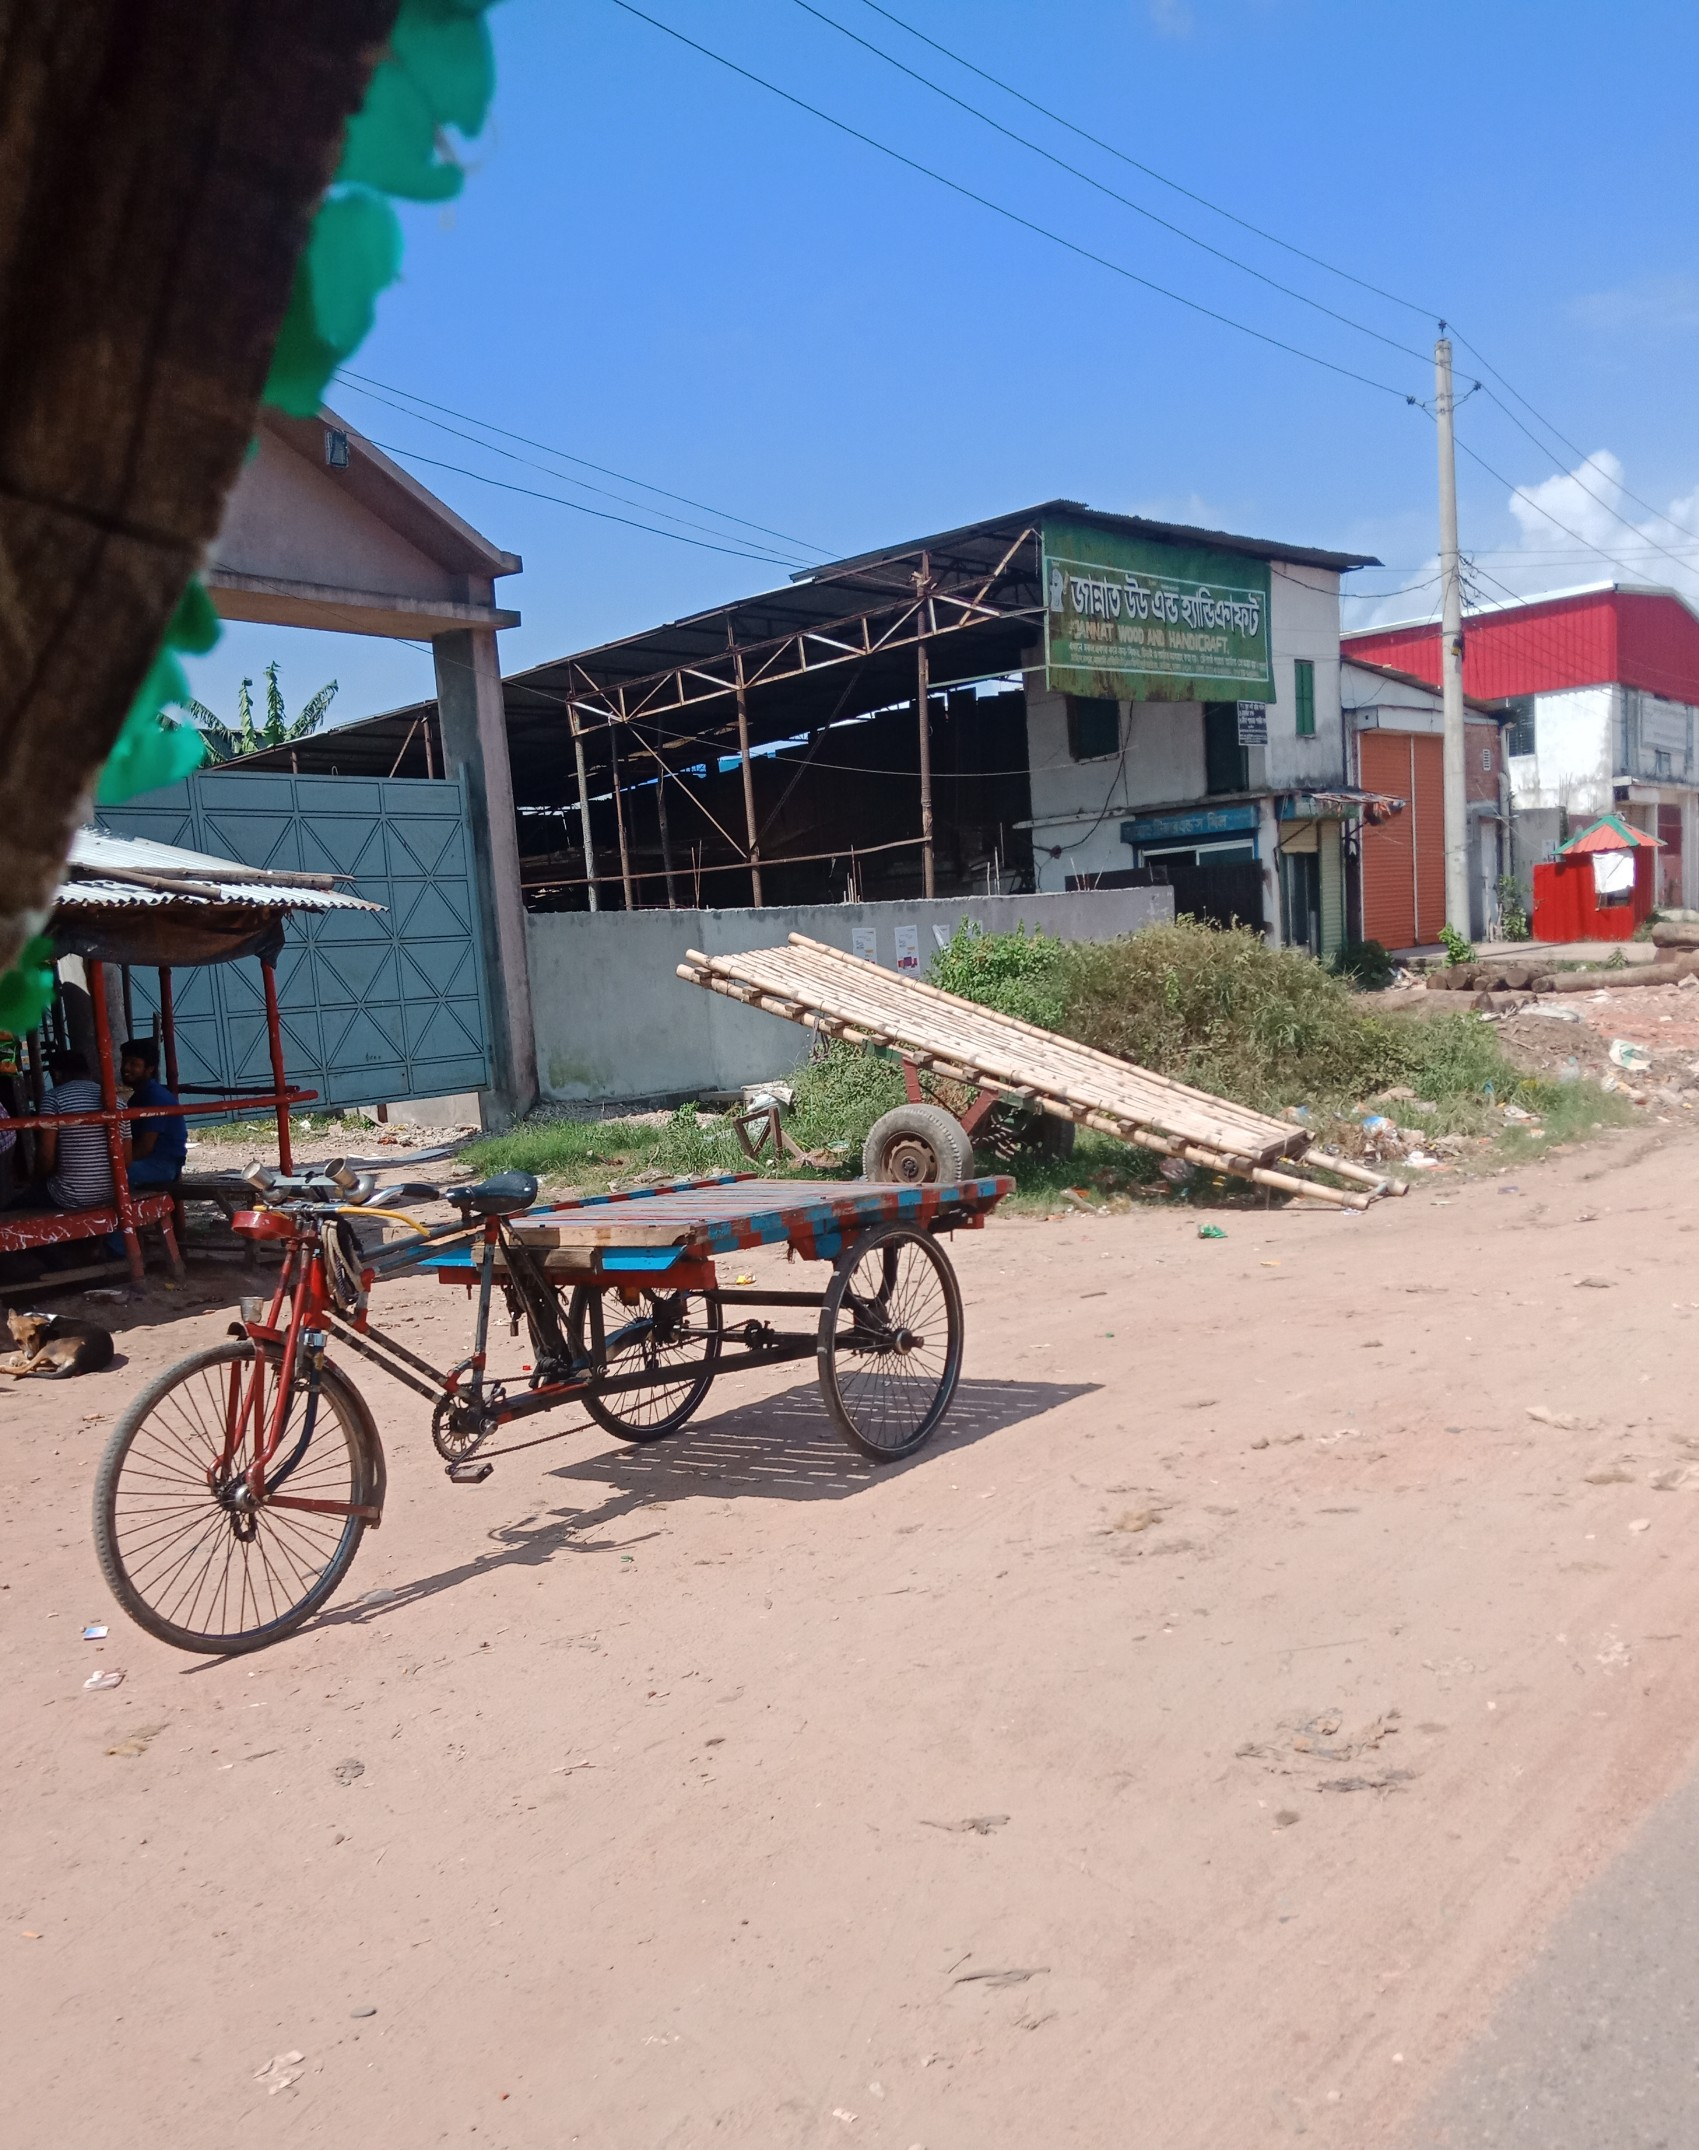van: (96, 1157, 1013, 1651)
wheelbarrow: (665, 927, 1415, 1225)
